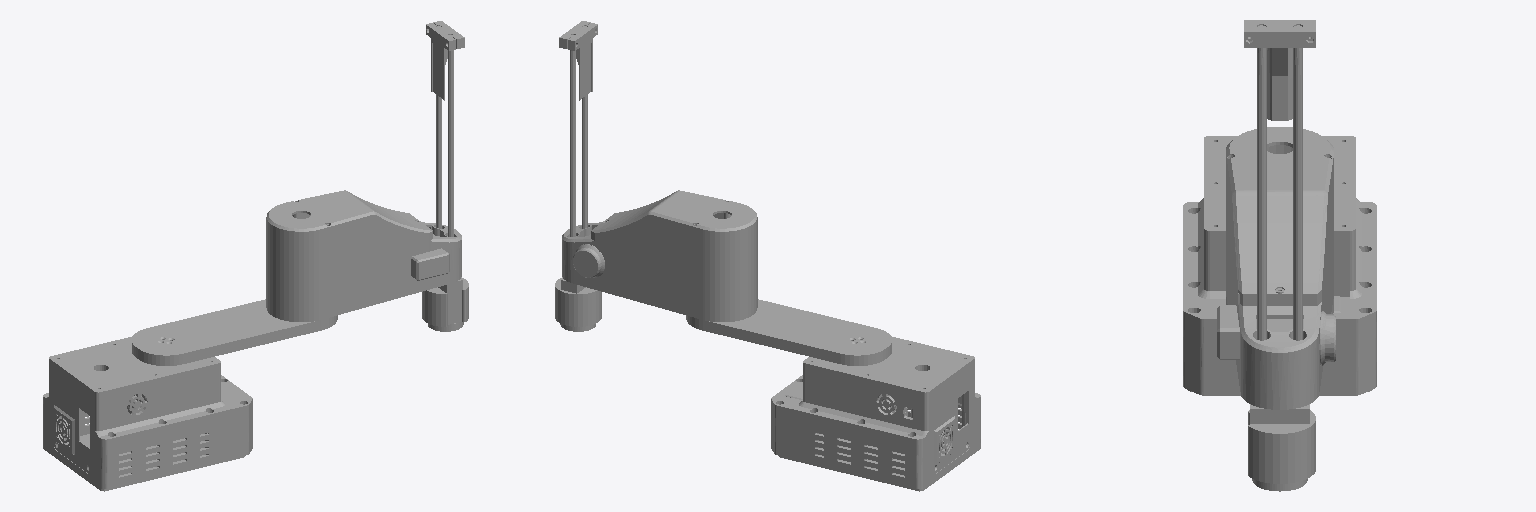
robot.urdf — scara_arm:
<?xml version="1.0" ?>
<!-- =================================================================================== -->
<!-- |    This document was autogenerated by xacro from [local-path]/Desktop/rigbetel-labs-ws/src/scara_arm/scara_arm_description/urdf/scara_arm.xacro | -->
<!-- |    EDITING THIS FILE BY HAND IS NOT RECOMMENDED                                 | -->
<!-- =================================================================================== -->
<robot name="scara_arm">
    <material name="silver">
        <color rgba="0.700 0.700 0.700 1.000" />
    </material>
    <transmission name="link_01_joint_tran">
        <type>transmission_interface/SimpleTransmission</type>
        <joint name="link_01_joint">
            <hardwareInterface>hardware_interface/PositionJointInterface</hardwareInterface>
        </joint>
        <actuator name="link_01_joint_actr">
            <hardwareInterface>hardware_interface/PositionJointInterface</hardwareInterface>
            <mechanicalReduction>1</mechanicalReduction>
        </actuator>
    </transmission>
    <transmission name="link_02_joint_tran">
        <type>transmission_interface/SimpleTransmission</type>
        <joint name="link_02_joint">
            <hardwareInterface>hardware_interface/PositionJointInterface</hardwareInterface>
        </joint>
        <actuator name="link_02_joint_actr">
            <hardwareInterface>hardware_interface/PositionJointInterface</hardwareInterface>
            <mechanicalReduction>1</mechanicalReduction>
        </actuator>
    </transmission>
    <transmission name="link_03_joint_tran">
        <type>transmission_interface/SimpleTransmission</type>
        <joint name="link_03_joint">
            <hardwareInterface>hardware_interface/PositionJointInterface</hardwareInterface>
        </joint>
        <actuator name="link_03_joint_actr">
            <hardwareInterface>hardware_interface/PositionJointInterface</hardwareInterface>
            <mechanicalReduction>1</mechanicalReduction>
        </actuator>
    </transmission>
    <transmission name="link_04_joint_tran">
        <type>transmission_interface/SimpleTransmission</type>
        <joint name="link_04_joint">
            <hardwareInterface>hardware_interface/PositionJointInterface</hardwareInterface>
        </joint>
        <actuator name="link_04_joint_actr">
            <hardwareInterface>hardware_interface/PositionJointInterface</hardwareInterface>
            <mechanicalReduction>1</mechanicalReduction>
        </actuator>
    </transmission>
    <gazebo>
        <plugin filename="libgazebo_ros_control.so" name="control" />
        <plugin name="gazebo_ros_control">
            <robotNamespace>/</robotNamespace>
        </plugin>
    </gazebo>
    <gazebo reference="base_link">
        <material>Gazebo/Silver</material>
        <mu1>0.2</mu1>
        <mu2>0.2</mu2>
        <selfCollide>true</selfCollide>
        <gravity>true</gravity>
    </gazebo>
    <gazebo reference="link_01_1">
        <material>Gazebo/Silver</material>
        <mu1>0.2</mu1>
        <mu2>0.2</mu2>
        <selfCollide>true</selfCollide>
    </gazebo>
    <gazebo reference="link_02_1">
        <material>Gazebo/Silver</material>
        <mu1>0.2</mu1>
        <mu2>0.2</mu2>
        <selfCollide>true</selfCollide>
    </gazebo>
    <gazebo reference="link_03_1">
        <material>Gazebo/Silver</material>
        <mu1>0.2</mu1>
        <mu2>0.2</mu2>
        <selfCollide>true</selfCollide>
    </gazebo>
    <gazebo reference="link_04_1">
        <material>Gazebo/Silver</material>
        <mu1>0.2</mu1>
        <mu2>0.2</mu2>
        <selfCollide>true</selfCollide>
    </gazebo>
    <link name="world" />
    <joint name="world_joint" type="fixed">
        <origin rpy="0 0 0" xyz="0 0 0.25" />
        <parent link="world" />
        <child link="base_link" />
    </joint>
    <link name="base_link">
        <inertial>
            <origin rpy="0 0 0" xyz="-0.11835854812758473 -0.000276888564792295 0.07546314461319549" />
            <mass value="9.76941358714018" />
            <inertia ixx="0.040462" ixy="0.000229" ixz="0.003341" iyy="0.058748" iyz="3e-06" izz="0.065063" />
        </inertial>
        <visual>
            <origin rpy="0 0 0" xyz="0 0 0" />
            <geometry>
                <mesh filename="package://scara_arm_description/meshes/base_link.stl" scale="0.001 0.001 0.001" />
            </geometry>
            <material name="silver" />
        </visual>
        <collision>
            <origin rpy="0 0 0" xyz="0 0 0" />
            <geometry>
                <mesh filename="package://scara_arm_description/meshes/base_link.stl" scale="0.001 0.001 0.001" />
            </geometry>
        </collision>
    </link>
    <link name="link_01_1">
        <inertial>
            <origin rpy="0 0 0" xyz="0.08670878750712241 1.200325802990558e-08 0.006656155794027313" />
            <mass value="1.9187641006386469" />
            <inertia ixx="0.001419" ixy="0.0" ixz="-0.000439" iyy="0.016505" iyz="0.0" izz="0.017605" />
        </inertial>
        <visual>
            <origin rpy="0 0 0" xyz="0.089 -0.0 -0.134" />
            <geometry>
                <mesh filename="package://scara_arm_description/meshes/link_01_1.stl" scale="0.001 0.001 0.001" />
            </geometry>
            <material name="silver" />
        </visual>
        <collision>
            <origin rpy="0 0 0" xyz="0.089 -0.0 -0.134" />
            <geometry>
                <mesh filename="package://scara_arm_description/meshes/link_01_1.stl" scale="0.001 0.001 0.001" />
            </geometry>
        </collision>
    </link>
    <link name="link_02_1">
        <inertial>
            <origin rpy="0 0 0" xyz="0.08442650829809627 -0.00019960790751640374 0.04670690112194936" />
            <mass value="4.429642089527778" />
            <inertia ixx="0.010022" ixy="0.000108" ixz="0.003844" iyy="0.037429" iyz="-1.5e-05" izz="0.034386" />
        </inertial>
        <visual>
            <origin rpy="0 0 0" xyz="-0.109 -0.0 -0.150161" />
            <geometry>
                <mesh filename="package://scara_arm_description/meshes/link_02_1.stl" scale="0.001 0.001 0.001" />
            </geometry>
            <material name="silver" />
        </visual>
        <collision>
            <origin rpy="0 0 0" xyz="-0.109 -0.0 -0.150161" />
            <geometry>
                <mesh filename="package://scara_arm_description/meshes/link_02_1.stl" scale="0.001 0.001 0.001" />
            </geometry>
        </collision>
    </link>
    <link name="link_03_1">
        <inertial>
            <origin rpy="0 0 0" xyz="7.948171955463046e-05 0.015947235193624242 0.007476972757145983" />
            <mass value="1.573240852398478" />
            <inertia ixx="0.031125" ixy="-1e-06" ixz="0.000175" iyy="0.031053" iyz="0.000143" izz="0.000561" />
        </inertial>
        <visual>
            <origin rpy="0 0 0" xyz="-0.321 0.014923 -0.190844" />
            <geometry>
                <mesh filename="package://scara_arm_description/meshes/link_03_1.stl" scale="0.001 0.001 0.001" />
            </geometry>
            <material name="silver" />
        </visual>
        <collision>
            <origin rpy="0 0 0" xyz="-0.321 0.014923 -0.190844" />
            <geometry>
                <mesh filename="package://scara_arm_description/meshes/link_03_1.stl" scale="0.001 0.001 0.001" />
            </geometry>
        </collision>
    </link>
    <link name="link_04_1">
        <inertial>
            <origin rpy="0 0 0" xyz="-6.87288058324742e-05 -3.7241785767553145e-11 -0.004999674402307544" />
            <mass value="0.1300483969226679" />
            <inertia ixx="1.8e-05" ixy="0.0" ixz="0.0" iyy="1.8e-05" iyz="0.0" izz="3.4e-05" />
        </inertial>
        <visual>
            <origin rpy="0 0 0" xyz="-0.3217 0.0 -0.087161" />
            <geometry>
                <mesh filename="package://scara_arm_description/meshes/link_04_1.stl" scale="0.001 0.001 0.001" />
            </geometry>
            <material name="silver" />
        </visual>
        <collision>
            <origin rpy="0 0 0" xyz="-0.3217 0.0 -0.087161" />
            <geometry>
                <mesh filename="package://scara_arm_description/meshes/link_04_1.stl" scale="0.001 0.001 0.001" />
            </geometry>
        </collision>
    </link>
    <joint name="link_01_joint" type="revolute">
        <origin rpy="0 0 0" xyz="-0.089 0.0 0.134" />
        <parent link="base_link" />
        <child link="link_01_1" />
        <axis xyz="0.0 -0.0 1.0" />
        <limit effort="100" lower="-1.43117" upper="1.71042" velocity="100" />
    </joint>
    <joint name="link_02_joint" type="revolute">
        <origin rpy="0 0 0" xyz="0.198 0.0 0.016161" />
        <parent link="link_01_1" />
        <child link="link_02_1" />
        <axis xyz="0.0 0.0 1.0" />
        <limit effort="100" lower="-1.71042" upper="1.43117" velocity="100" />
    </joint>
    <joint name="link_03_joint" type="prismatic">
        <origin rpy="0 0 0" xyz="0.212 -0.014923 0.040683" />
        <parent link="link_02_1" />
        <child link="link_03_1" />
        <axis xyz="0.0 0.0 1.0" />
        <limit effort="100" lower="-0.23" upper="0.0" velocity="100" />
    </joint>
    <joint name="link_04_joint" type="revolute">
        <origin rpy="0 0 0" xyz="0.0007 0.014923 -0.103683" />
        <parent link="link_03_1" />
        <child link="link_04_1" />
        <axis xyz="0.0 0.0 -1.0" />
        <limit effort="100" lower="-1.570796" upper="1.570796" velocity="100" />
    </joint>
</robot>

--- What the picture shows (computed from the rendered views, not written in the file) ---
Views: 3 orthographic renders of the robot side by side, from view 1: azimuth 30°, elevation 25°; view 2: azimuth 150°, elevation 25°; view 3: azimuth 270°, elevation 25°.
Robot: scara_arm — 6 links, 5 joints (3 revolute, 1 prismatic, 1 fixed); root link world; default pose: every joint at zero.
Links seen in each view (by area): view 1: base_link, link_02_1, link_01_1, link_03_1; view 2: base_link, link_02_1, link_01_1, link_03_1; view 3: link_02_1, base_link, link_03_1.
Link boxes in pixels (x1=…): base_link: x1=43, y1=336, x2=252, y2=491; link_02_1: x1=266, y1=190, x2=461, y2=321; link_01_1: x1=132, y1=299, x2=337, y2=365; link_03_1: x1=422, y1=21, x2=468, y2=326; base_link: x1=771, y1=336, x2=980, y2=491; link_02_1: x1=562, y1=190, x2=757, y2=321; link_01_1: x1=686, y1=299, x2=891, y2=365; link_03_1: x1=555, y1=21, x2=601, y2=326; link_02_1: x1=1217, y1=127, x2=1335, y2=409; base_link: x1=1183, y1=136, x2=1376, y2=395; link_03_1: x1=1244, y1=20, x2=1315, y2=483.
Bounding box of the posed robot: 0.5839 × 0.16 × 0.4912 m (x, y, z).
Meshes: 5 distinct files referenced, 5 mesh visuals loaded (5 binary STL).